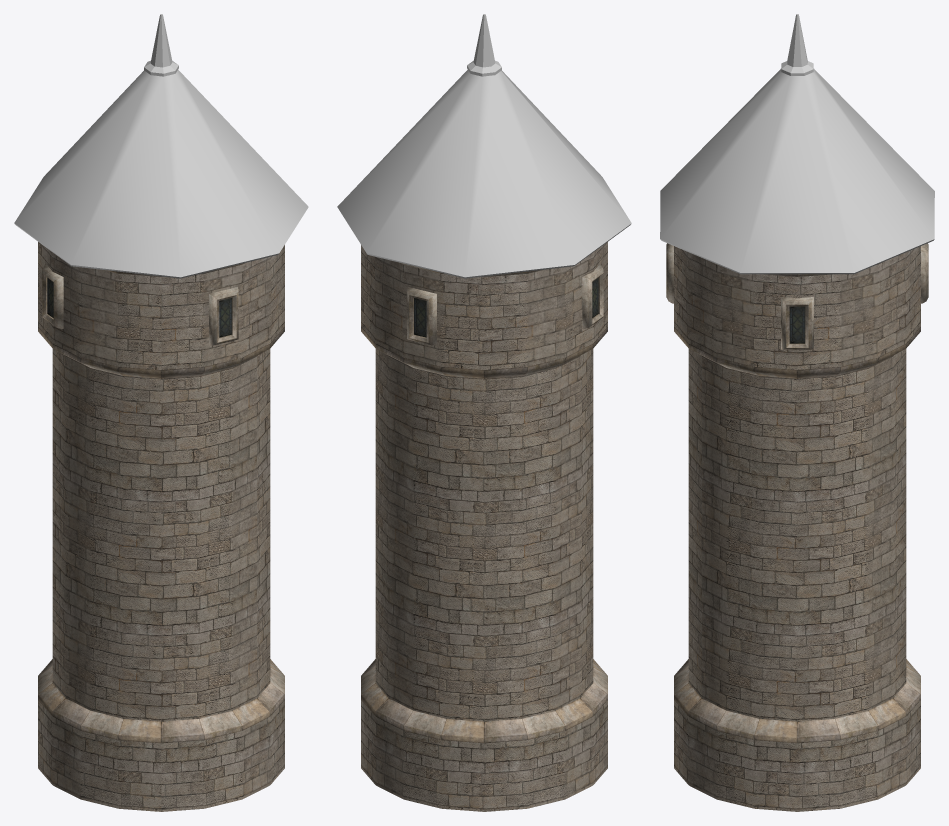
The model's file is mw_city_walls_tower_01.FBX.
3 renders of one model, left to right at view 1: azimuth 30°, elevation 25°; view 2: azimuth 150°, elevation 25°; view 3: azimuth 270°, elevation 25°, orthographic.
Parts seen in each view (by area): view 1: mw_city_walls_tower_01; view 2: mw_city_walls_tower_01; view 3: mw_city_walls_tower_01.
Boxes of the visible parts, bbox=[...] form: mw_city_walls_tower_01: bbox=[14, 14, 308, 811]; mw_city_walls_tower_01: bbox=[337, 14, 631, 811]; mw_city_walls_tower_01: bbox=[660, 14, 934, 811].
Size of the model in its own units: 835 by 2498 by 835.
